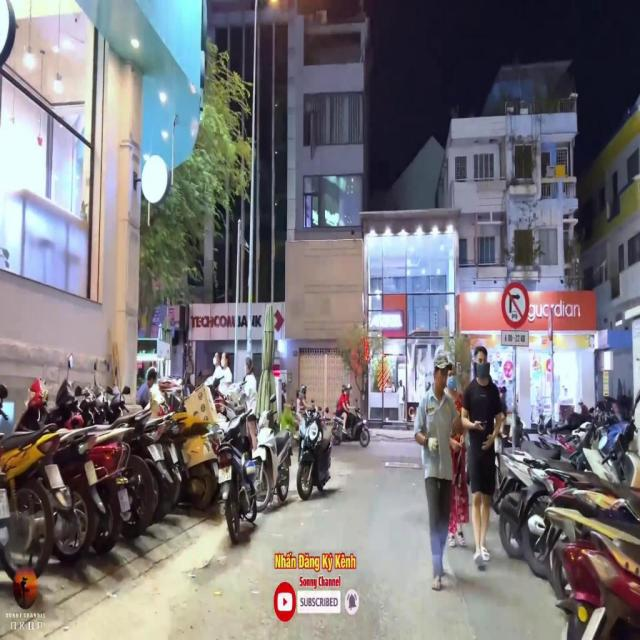cam_o_to_re_trai: (500, 280, 530, 332)
khac: (499, 330, 532, 351)
